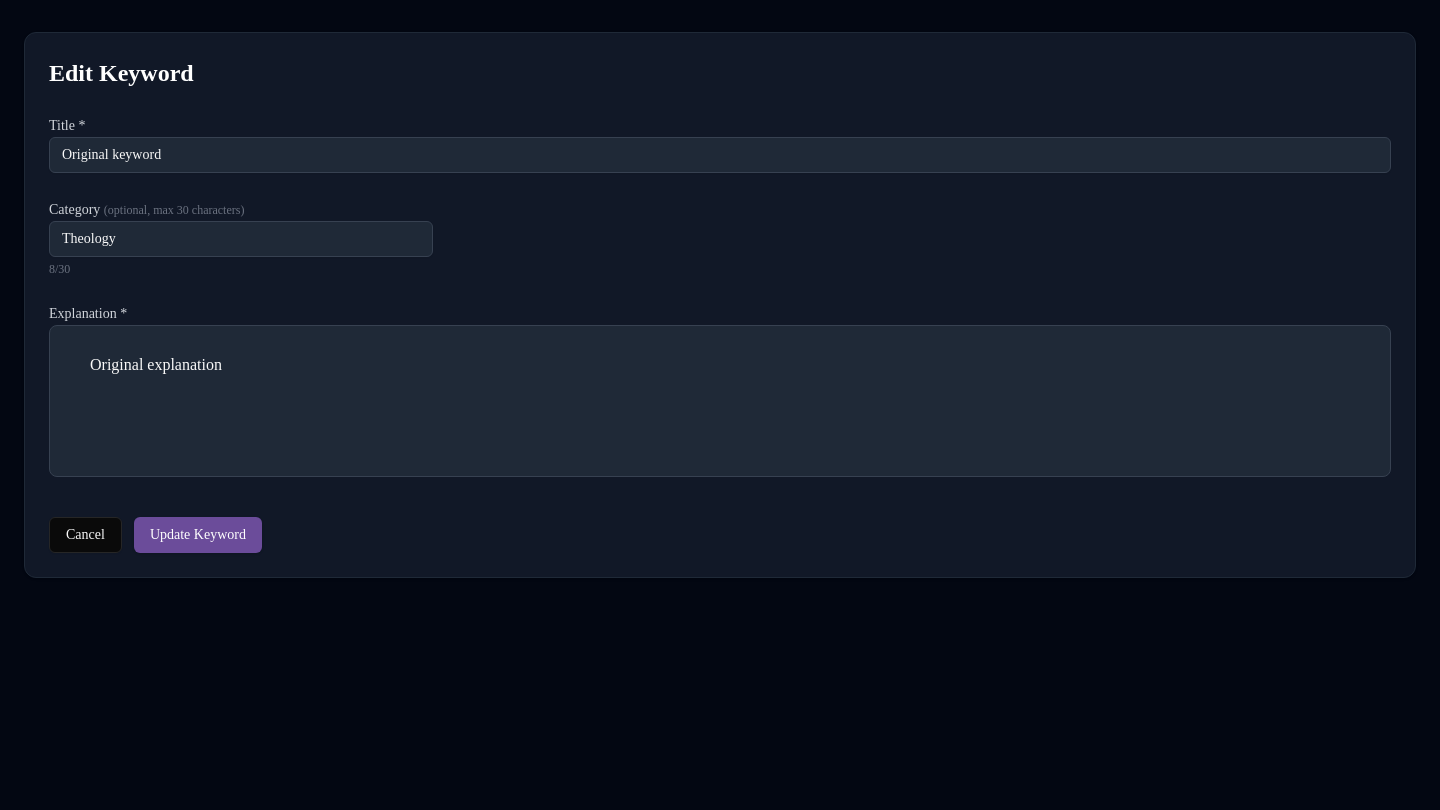
it: autosaves a {} change after 400ms and keeps the list current when reopened
The image size is (1440, 810).
Earlier steps of the test are not shown.
Replace the text in the field labelled "Title *" with "Changed title". click: (720, 155)
box: [49, 137, 1391, 173]
Wait 400 ms
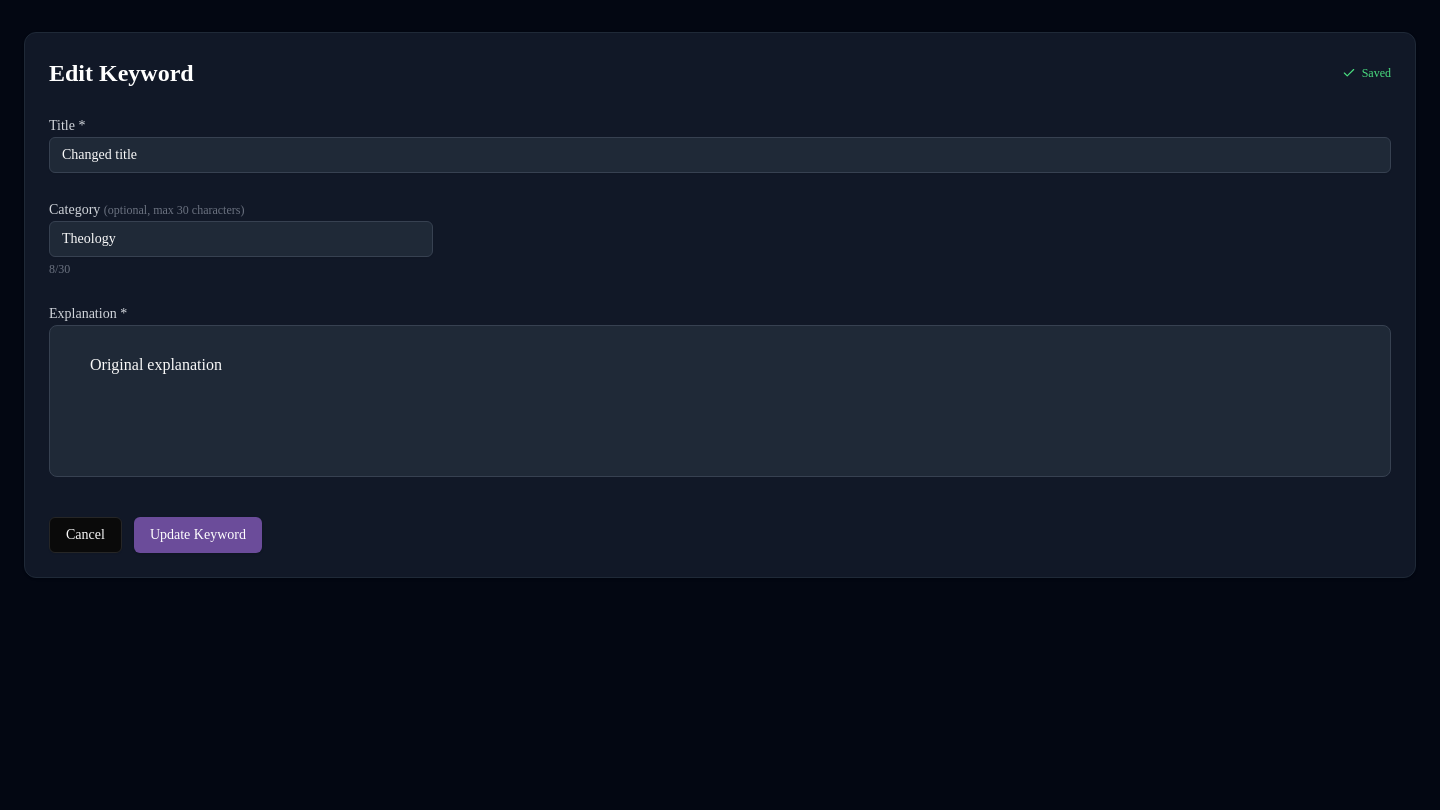
Result: the text "Saved" is shown at [1362, 65, 1391, 81]
Click the button "Cancel". click: click(85, 535)
box: [49, 517, 122, 553]
Wait 1000 ms
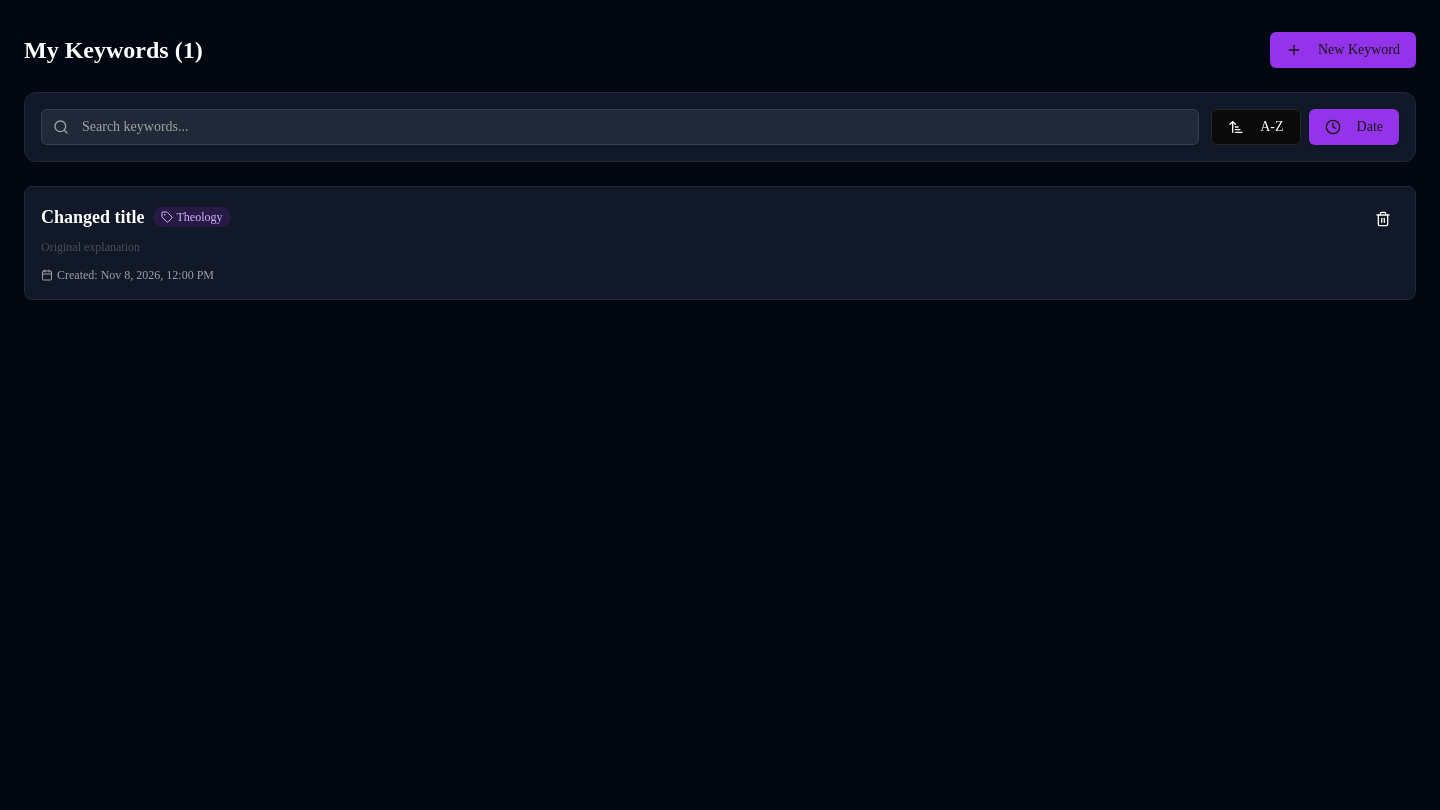
Click the heading "Changed title". click: click(93, 217)
box: [41, 203, 144, 231]
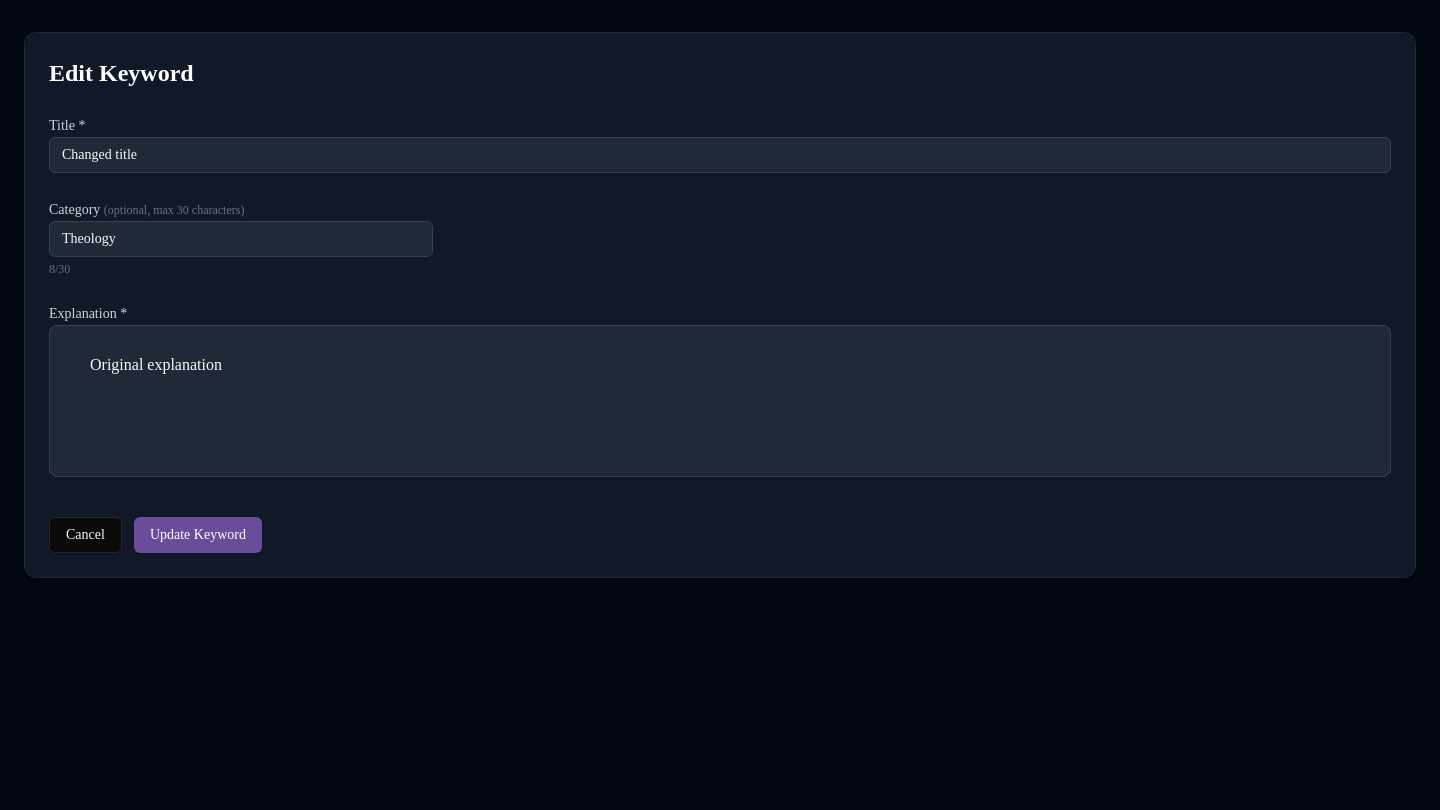
Result: the field labelled "Title *" holds "Changed title" at [49, 137, 1391, 173]
